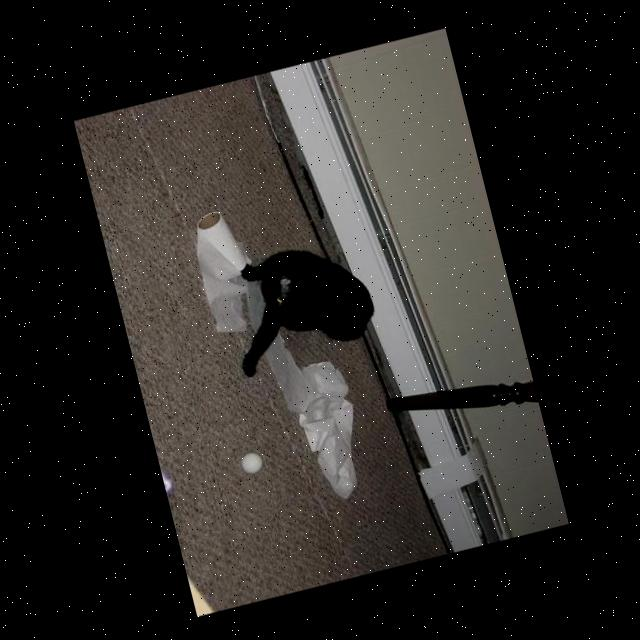ping-pong-ball: (237, 448, 264, 474)
